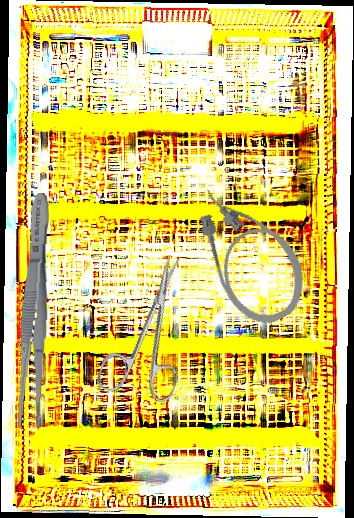Cannula: (182, 167, 319, 336)
Dressing Forceps: (13, 192, 57, 429)
Iris Scissors: (94, 245, 214, 410)
